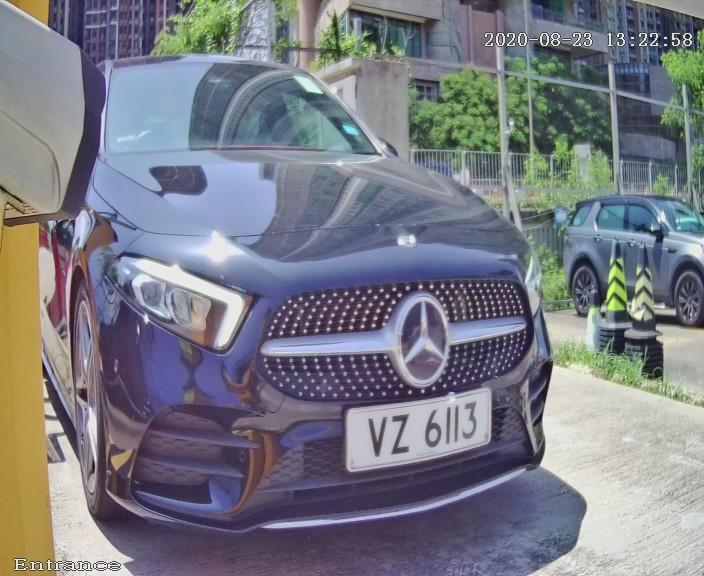Car: (29, 6, 598, 576)
License Plate: (310, 363, 518, 500)
